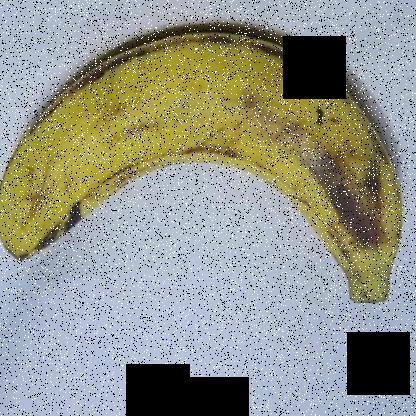overripe: (0, 6, 415, 328)
